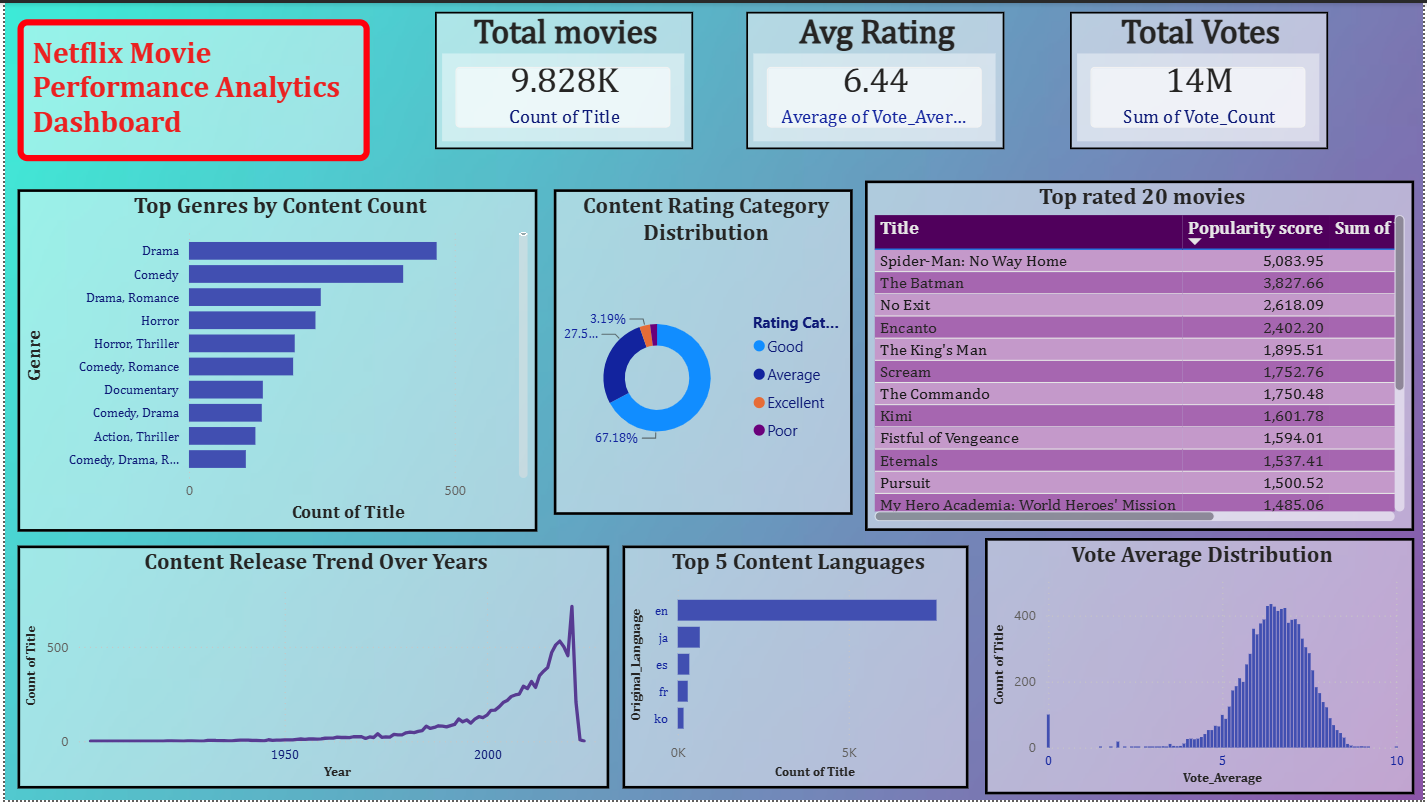

This screenshot's page, from the dashboard's own definition file:
{"tool":"powerbi","page":{"name":"Page 1","canvas":[1280,720],"ordinal":0},"visuals":[{"type":"image","box":[0,0,1280,720.3],"z":0},{"type":"cardVisual","title":"Total movies","fields":{"Data":["CountNonNull(mymoviedb.Title)"]},"box":[388.1,7.5,232.6,124.4],"z":1000},{"type":"textbox","box":[11.2,14.9,317.2,128.1],"z":2000},{"type":"cardVisual","title":"Avg Rating","fields":{"Data":["Avg(mymoviedb.Vote_Average)"]},"box":[668,7.5,232.6,124.4],"z":3000},{"type":"cardVisual","title":"Total Votes","fields":{"Data":["Sum(mymoviedb.Vote_Count)"]},"box":[960.3,7.5,232.6,124.4],"z":4000},{"type":"clusteredBarChart","title":"Top Genres by Content Count","fields":{"Category":["mymoviedb.Genre"],"Y":["CountNonNull(mymoviedb.Title)"]},"box":[11.2,167.9,469,308.5],"z":5000},{"type":"clusteredColumnChart","title":"Vote Average Distribution","fields":{"Category":["mymoviedb.Vote_Average"],"Y":["CountNonNull(mymoviedb.Title)"]},"box":[883.2,482.7,386.9,231.4],"z":6000},{"type":"lineChart","title":"Content Release Trend Over Years","fields":{"Category":["mymoviedb.Release_Date.Variation.Date Hierarchy.Year"],"Y":["CountNonNull(mymoviedb.Title)"]},"box":[11.2,488.9,533.7,218.9],"z":7000},{"type":"clusteredBarChart","title":"Top 5 Content Languages","fields":{"Category":["mymoviedb.Original_Language"],"Y":["CountNonNull(mymoviedb.Title)"]},"box":[557.3,488.9,312.2,218.9],"z":8000},{"type":"tableEx","title":"Top rated 20 movies","fields":{"Values":["mymoviedb.Title","Sum(mymoviedb.Popularity)","Sum(mymoviedb.Vote_Average)","Sum(mymoviedb.Vote_Count)"]},"box":[775,160.5,495.1,316],"z":9000},{"type":"donutChart","title":"Content Rating Category Distribution","fields":{"Y":["CountNonNull(mymoviedb.Title)"],"Category":["mymoviedb.Rating Category"]},"box":[495.1,167.9,269.9,293.6],"z":10000}]}

Visuals, with their boxes in screenshot pixels (x1, y1, x2, y2), scaled from the page's 1280x720 canvas onto the 1427x802 screenshot:
image: region(0, 0, 1426, 801)
"Total movies" cardVisual: region(433, 8, 692, 147)
textbox: region(12, 17, 366, 159)
"Avg Rating" cardVisual: region(745, 8, 1004, 147)
"Total Votes" cardVisual: region(1071, 8, 1330, 147)
"Top Genres by Content Count" clusteredBarChart: region(12, 187, 535, 531)
"Vote Average Distribution" clusteredColumnChart: region(985, 538, 1416, 795)
"Content Release Trend Over Years" lineChart: region(12, 545, 607, 788)
"Top 5 Content Languages" clusteredBarChart: region(621, 545, 969, 788)
"Top rated 20 movies" tableEx: region(864, 179, 1416, 531)
"Content Rating Category Distribution" donutChart: region(552, 187, 853, 514)
